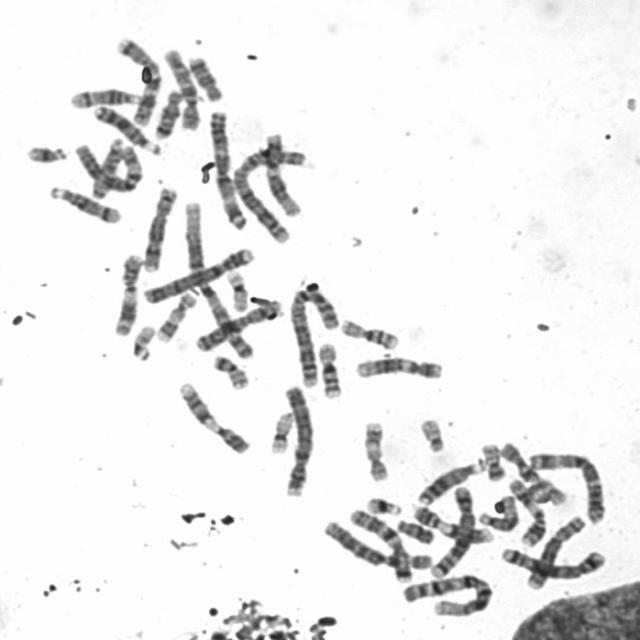A1: (178, 194, 256, 362), (398, 568, 495, 618)
A2: (229, 142, 308, 242), (287, 283, 342, 393)
A3: (523, 446, 608, 524), (203, 105, 250, 232)
B4: (137, 243, 255, 305), (278, 380, 315, 498)
B5: (427, 482, 478, 580), (496, 542, 609, 582)
C10: (495, 437, 570, 506), (160, 44, 202, 132)
C11: (108, 248, 145, 337), (506, 474, 549, 548)
C12: (258, 128, 302, 218), (350, 351, 446, 381)
C6: (319, 516, 435, 573), (72, 135, 146, 195)
C7: (345, 504, 416, 583), (111, 31, 163, 128)
C8: (522, 510, 588, 590), (138, 182, 180, 274)
C9: (174, 377, 252, 456), (410, 501, 499, 545)
D13: (89, 100, 164, 156), (414, 455, 488, 506)
D14: (45, 181, 125, 225), (65, 82, 145, 110)
D15: (87, 133, 126, 200), (474, 490, 520, 533)
E16: (336, 313, 402, 350), (314, 337, 344, 400)
E17: (152, 287, 199, 343), (360, 416, 392, 484)
E18: (183, 50, 226, 103), (150, 85, 186, 140)
F19: (266, 407, 297, 455), (222, 264, 251, 313)
F20: (208, 350, 252, 390), (477, 438, 507, 483)
G21: (21, 139, 71, 165), (362, 491, 406, 516)
G22: (416, 412, 448, 454), (127, 321, 158, 363)
X: (192, 295, 284, 353)
Y: (392, 514, 437, 546)
